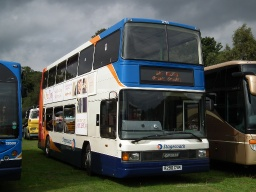bus: (37, 16, 208, 175), (205, 59, 256, 168), (1, 58, 24, 174)
